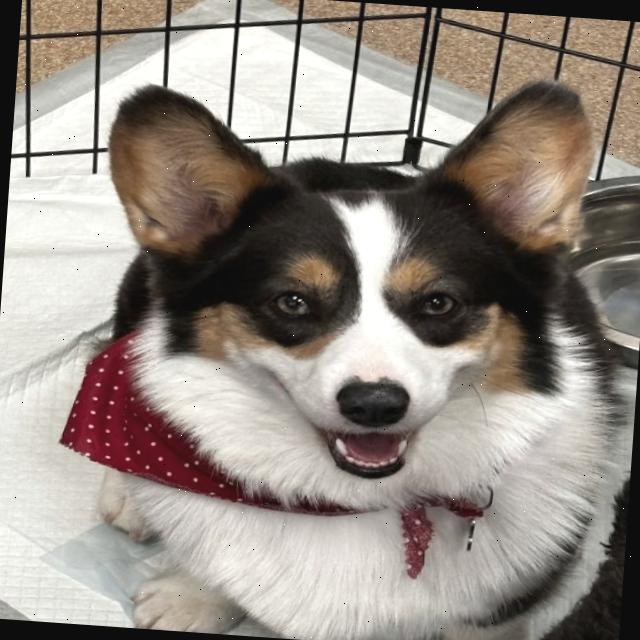corgi_dog: (63, 26, 613, 522)
